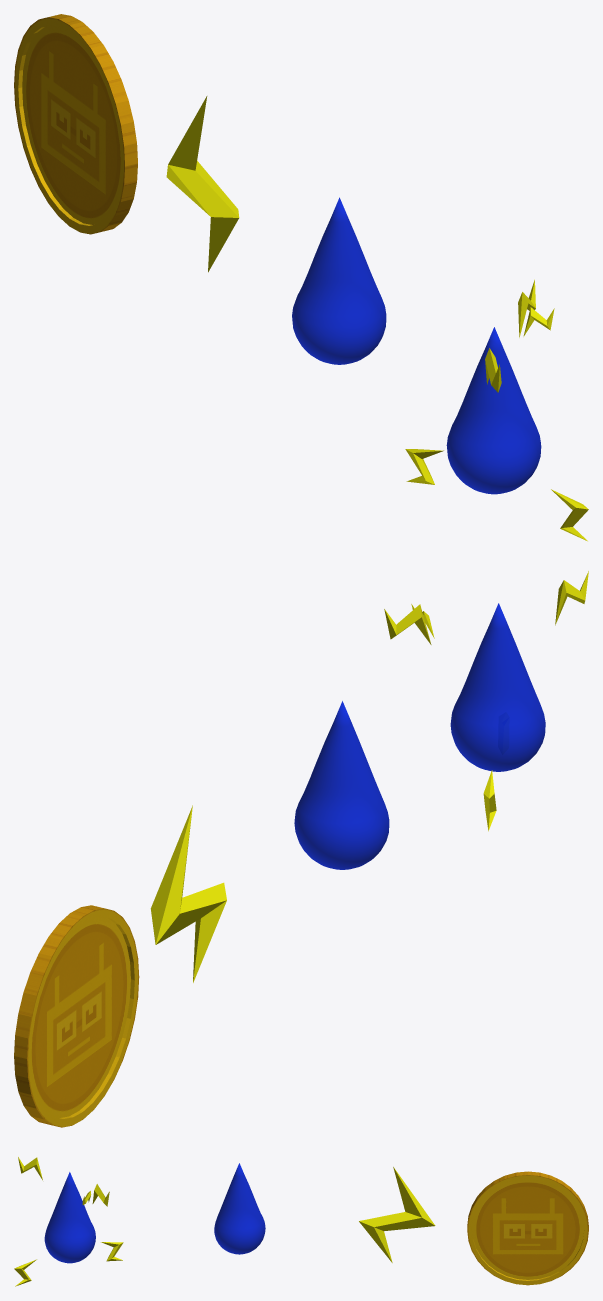
File: Modelos.fbx
3 renders of one model, top to bottom at view 1: azimuth 30°, elevation 25°; view 2: azimuth 150°, elevation 25°; view 3: azimuth 270°, elevation 25°, orthographic. The views are drawn at different scales.
Parts seen in each view (by area): view 1: Cylinder, Circle.005, Sphere, Circle; view 2: Cylinder, Circle.005, Sphere, Circle; view 3: Cylinder, Circle.005, Sphere, Circle.
Part boxes in pixels (x1=…): Cylinder: x1=14, y1=14, x2=137, y2=234; Circle.005: x1=405, y1=279, x2=588, y2=541; Sphere: x1=292, y1=197, x2=386, y2=364; Circle: x1=166, y1=96, x2=239, y2=272; Cylinder: x1=14, y1=905, x2=139, y2=1127; Circle.005: x1=384, y1=571, x2=588, y2=831; Sphere: x1=294, y1=701, x2=389, y2=869; Circle: x1=150, y1=805, x2=226, y2=982; Cylinder: x1=467, y1=1171, x2=588, y2=1285; Circle.005: x1=14, y1=1157, x2=123, y2=1286; Sphere: x1=214, y1=1163, x2=265, y2=1254; Circle: x1=359, y1=1167, x2=435, y2=1262.
Size of the model in its own units: 294 by 510 by 2198.
7 materials, 1 textured.
